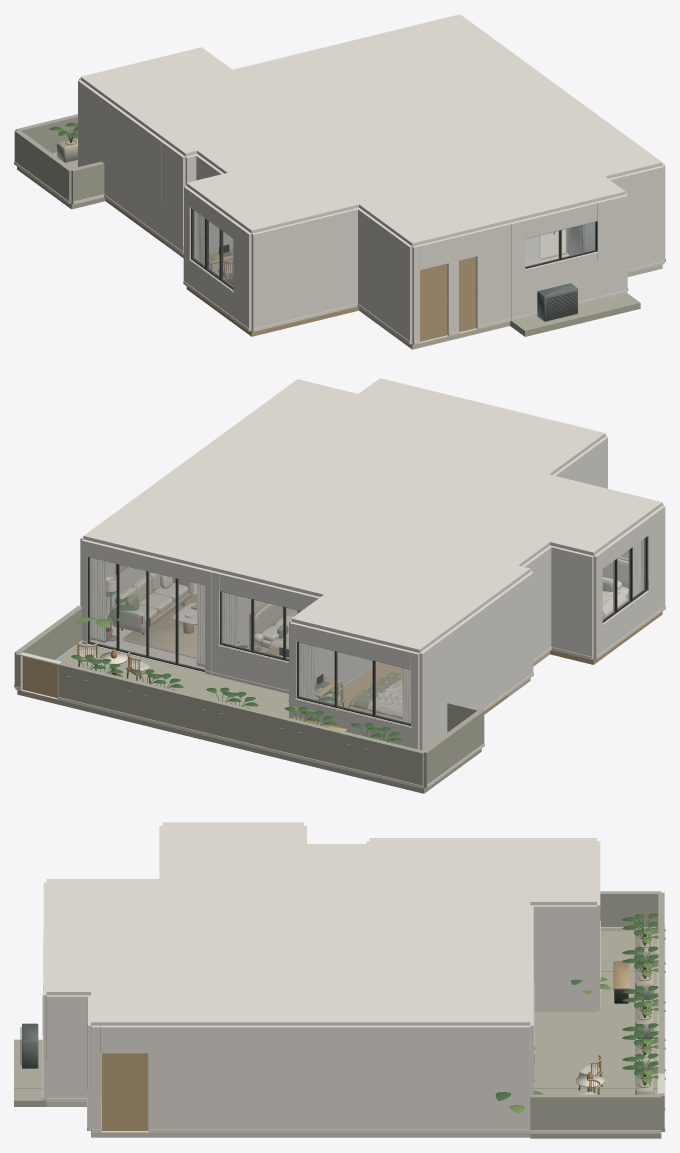
The model's file is house.glb.
3 renders of one model, top to bottom at view 1: azimuth 30°, elevation 25°; view 2: azimuth 150°, elevation 25°; view 3: azimuth 270°, elevation 25°, orthographic. The views are drawn at different scales.
Parts seen in each view (by area): view 1: ceiling__CP_Trim, full__CP_Plaster, cutaway__CP_Plaster, cutaway__CP_Outdoor_Tile, full__CP_Glass, full__CP_Wood_Z, shared__CP_Outdoor_Tile, shared__CP_Trim, shared__CP_Appliance, full__CP_Outdoor_Tile, full__CP_Dark_Metal, shared__CP_Wood_X (+4 smaller); view 2: ceiling__CP_Trim, full__CP_Plaster, full__CP_Glass, cutaway__CP_Outdoor_Tile, cutaway__CP_Plaster, full__CP_Outdoor_Tile, shared__CP_Outdoor_Tile, shared__CP_Fabric, full__CP_Dark_Metal, full__CP_Fabric_Light, shared__CP_Trim, shared__CP_Wood_X (+6 smaller); view 3: ceiling__CP_Trim, full__CP_Plaster, cutaway__CP_Plaster, shared__CP_Outdoor_Tile, cutaway__CP_Outdoor_Tile, full__CP_Outdoor_Tile, full__CP_Wood_Z, shared__CP_Trim, shared__CP_Floor_Stone, shared__CP_Leaf, shared__CP_Leaf_Light, shared__CP_Appliance (+2 smaller).
Boxes of the visible parts, box(x1,y1,x2,y2) form: ceiling__CP_Trim: box(80, 14, 662, 246); full__CP_Plaster: box(78, 78, 665, 344); cutaway__CP_Plaster: box(78, 140, 665, 344); cutaway__CP_Outdoor_Tile: box(14, 114, 104, 204); full__CP_Glass: box(193, 210, 595, 286); full__CP_Wood_Z: box(420, 228, 569, 340); shared__CP_Outdoor_Tile: box(17, 138, 640, 336); shared__CP_Trim: box(14, 152, 665, 344); shared__CP_Appliance: box(219, 222, 594, 321); full__CP_Outdoor_Tile: box(15, 115, 104, 203); full__CP_Dark_Metal: box(191, 208, 597, 289); shared__CP_Wood_X: box(105, 198, 358, 336); ceiling__CP_Trim: box(83, 378, 662, 652); full__CP_Plaster: box(80, 435, 665, 750); full__CP_Glass: box(89, 538, 645, 723); cutaway__CP_Outdoor_Tile: box(14, 605, 484, 788); cutaway__CP_Plaster: box(80, 564, 657, 750); full__CP_Outdoor_Tile: box(14, 609, 483, 787); shared__CP_Outdoor_Tile: box(17, 643, 481, 793); shared__CP_Fabric: box(79, 559, 628, 718); full__CP_Dark_Metal: box(87, 536, 647, 725); full__CP_Fabric_Light: box(91, 541, 641, 723); shared__CP_Trim: box(14, 606, 665, 788); shared__CP_Wood_X: box(77, 556, 662, 731); ceiling__CP_Trim: box(46, 822, 596, 1025); full__CP_Plaster: box(43, 826, 600, 1129); cutaway__CP_Plaster: box(43, 969, 600, 1130); shared__CP_Outdoor_Tile: box(14, 930, 661, 1138); cutaway__CP_Outdoor_Tile: box(530, 891, 664, 1131); full__CP_Outdoor_Tile: box(530, 891, 664, 1131); full__CP_Wood_Z: box(102, 1053, 148, 1129); shared__CP_Trim: box(42, 926, 665, 1133); shared__CP_Floor_Stone: box(46, 1102, 530, 1137); shared__CP_Leaf: box(495, 913, 658, 1100); shared__CP_Leaf_Light: box(509, 921, 665, 1113); shared__CP_Appliance: box(22, 1023, 38, 1068).
Bounding box in the file's own units: 11.99 × 3.03 × 15.55.
